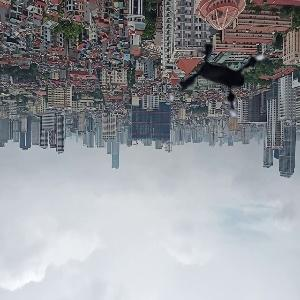drone: (160, 24, 285, 149)
